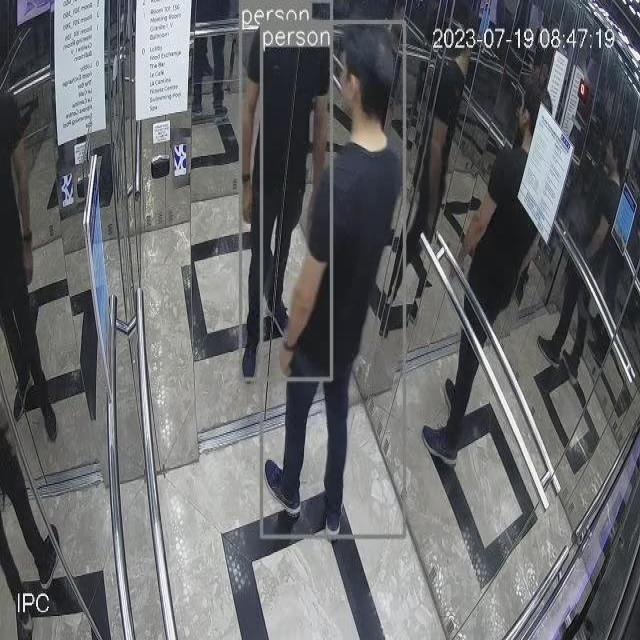person: (263, 24, 405, 540), (425, 79, 542, 468), (241, 5, 334, 378)
